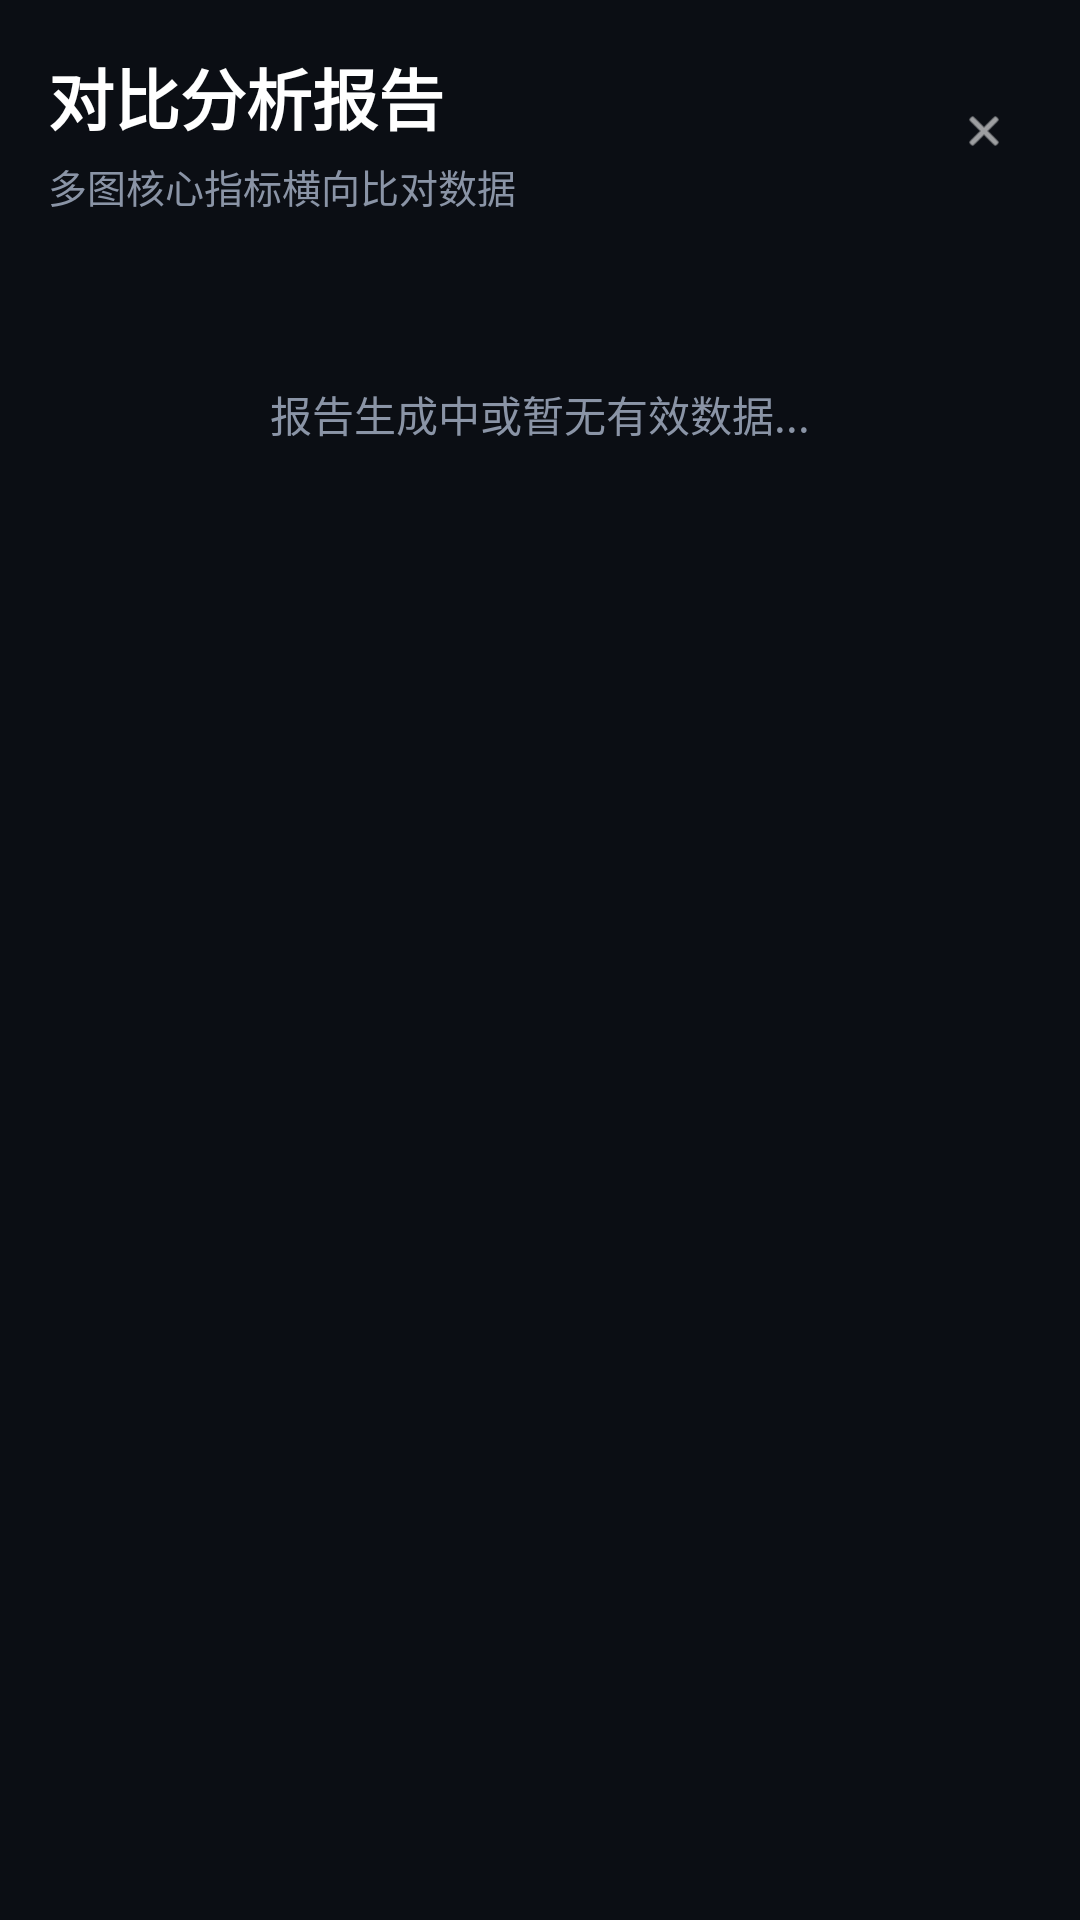

Where icons sit on this 1080x1920 app screen, as (x1, y1, x2, y2):
关闭: (969, 116, 999, 146)
